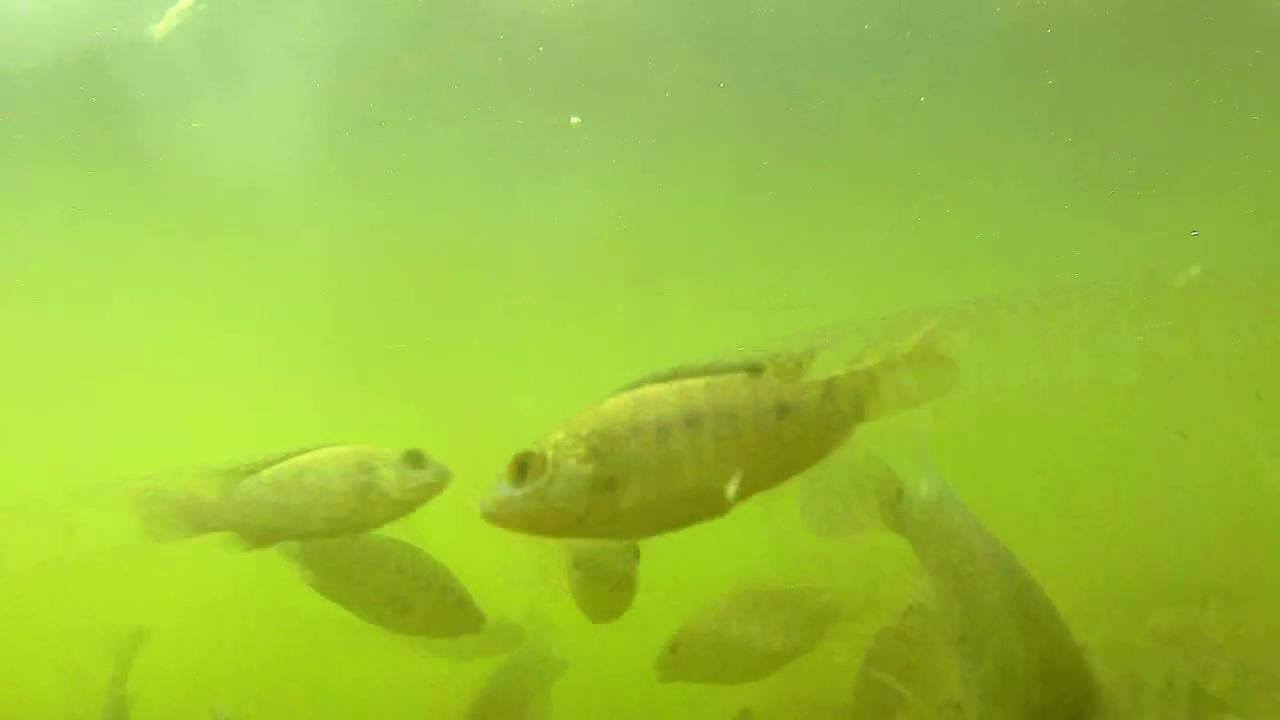Tilapia: (485, 322, 962, 542), (858, 476, 1119, 712), (135, 438, 457, 550), (646, 580, 859, 684), (288, 530, 487, 640)
